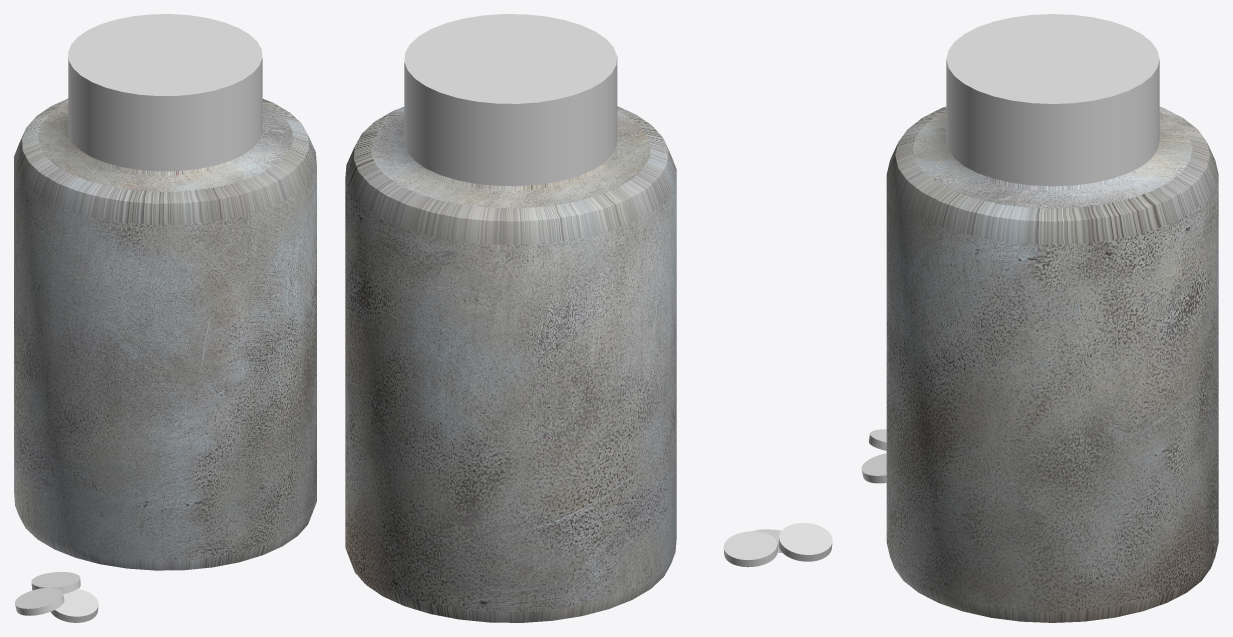
Rendered from Pills.fbx.
The picture shows the model from 3 angles, left to right: view 1: azimuth 30°, elevation 25°; view 2: azimuth 150°, elevation 25°; view 3: azimuth 270°, elevation 25°; orthographic projection. The views are drawn at different scales.
Visible parts, largest first — view 1: Cylinder, Cylinder.001, Cylinder.004, Cylinder.002, Cylinder.003; view 2: Cylinder, Cylinder.001, Cylinder.002, Cylinder.003; view 3: Cylinder, Cylinder.001, Cylinder.004.
Boxes of the visible parts, <box> form: Cylinder: <box>14,98,316,570</box>; Cylinder.001: <box>68,14,262,171</box>; Cylinder.004: <box>50,589,98,622</box>; Cylinder.002: <box>15,587,64,615</box>; Cylinder.003: <box>31,572,80,593</box>; Cylinder: <box>345,106,676,622</box>; Cylinder.001: <box>404,14,617,186</box>; Cylinder.002: <box>778,523,832,561</box>; Cylinder.003: <box>723,531,777,567</box>; Cylinder: <box>886,106,1218,622</box>; Cylinder.001: <box>946,14,1159,186</box>; Cylinder.004: <box>861,453,886,483</box>.
Bounding box in the file's own units: 2.67 × 2.15 × 3.37.
